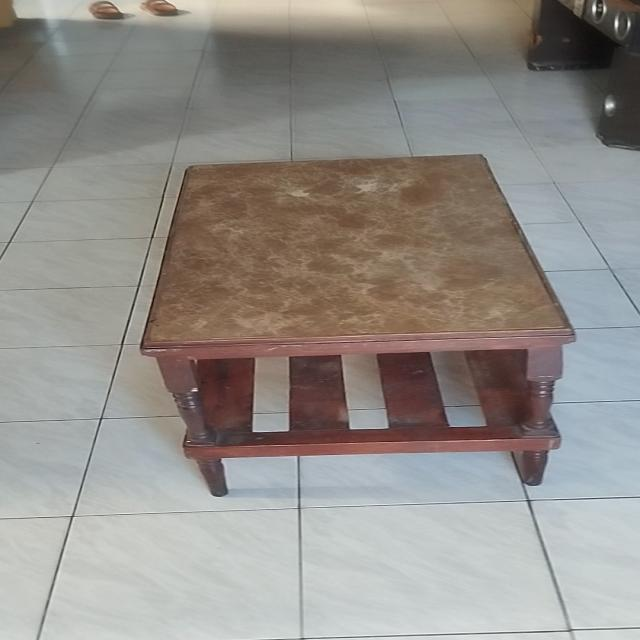table: (134, 148, 582, 497)
